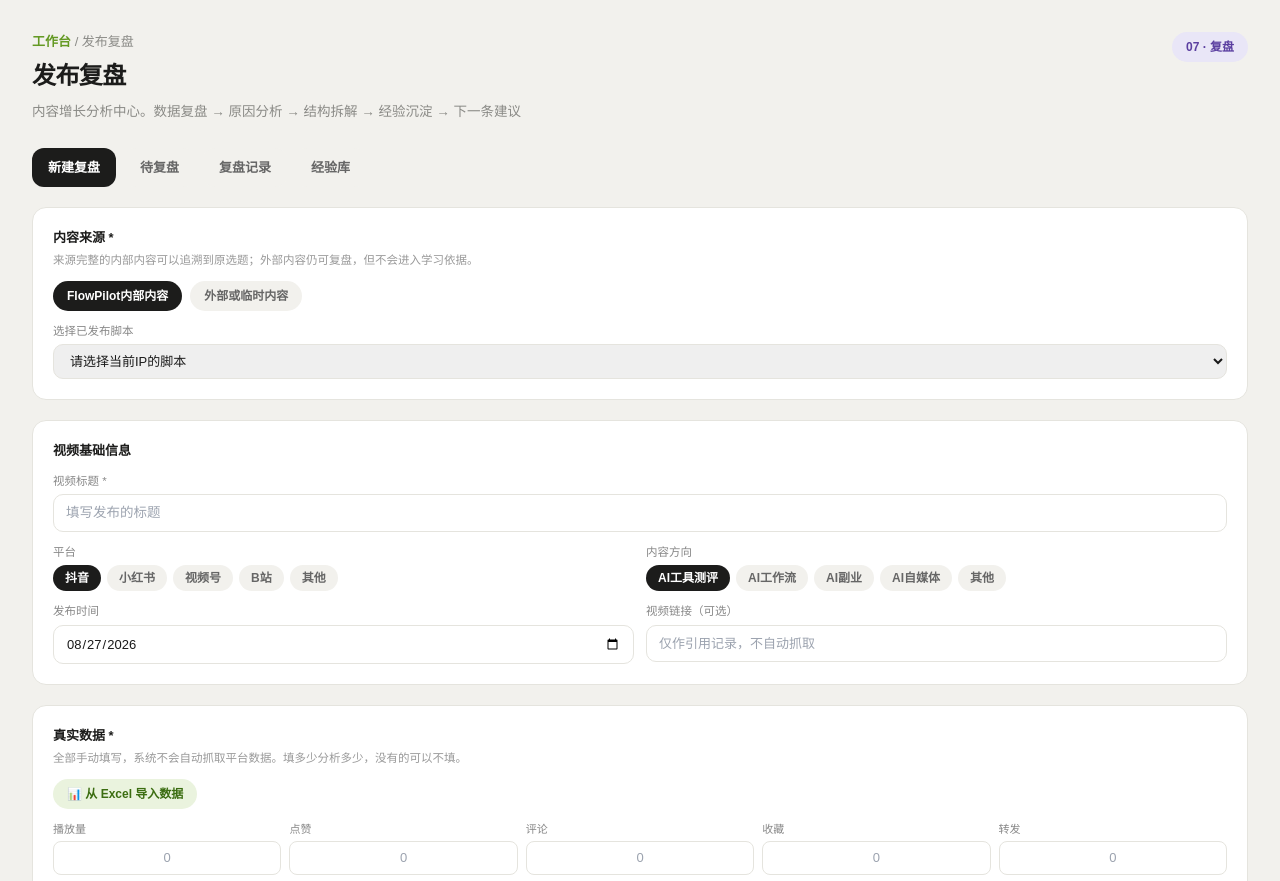
Scenario: 新建复盘明确区分内部内容和外部内容并只列出当前IP脚本
Expected: the button "FlowPilot内部内容" is shown, 53,281 -> 182,311
Click the button "外部或临时内容". click: (246, 296)
box: 190,281 -> 302,311
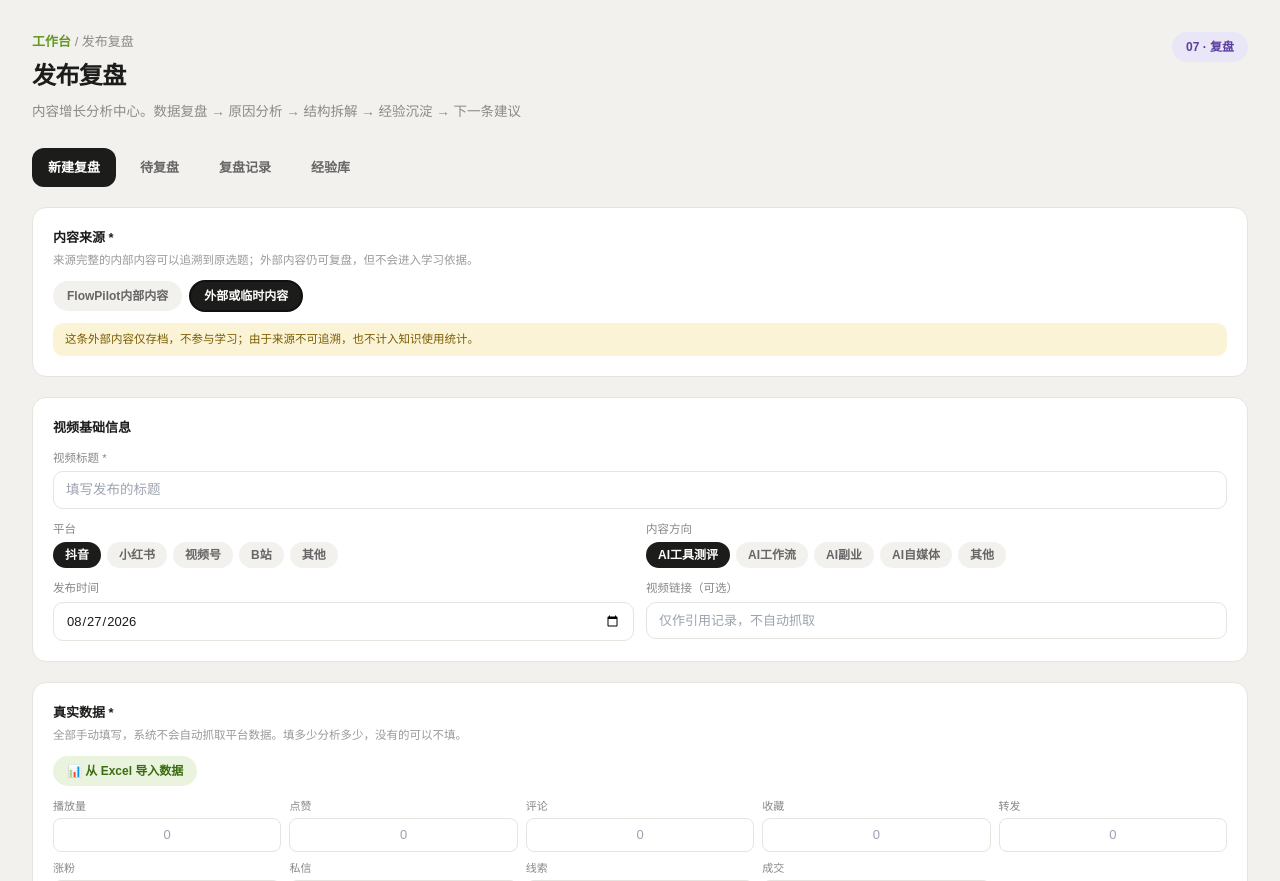
Result: the text "这条外部内容仅存档，不参与学习；由于来源不可追溯，也不计入知识使用统计。" is shown at 53,323 -> 1227,356
